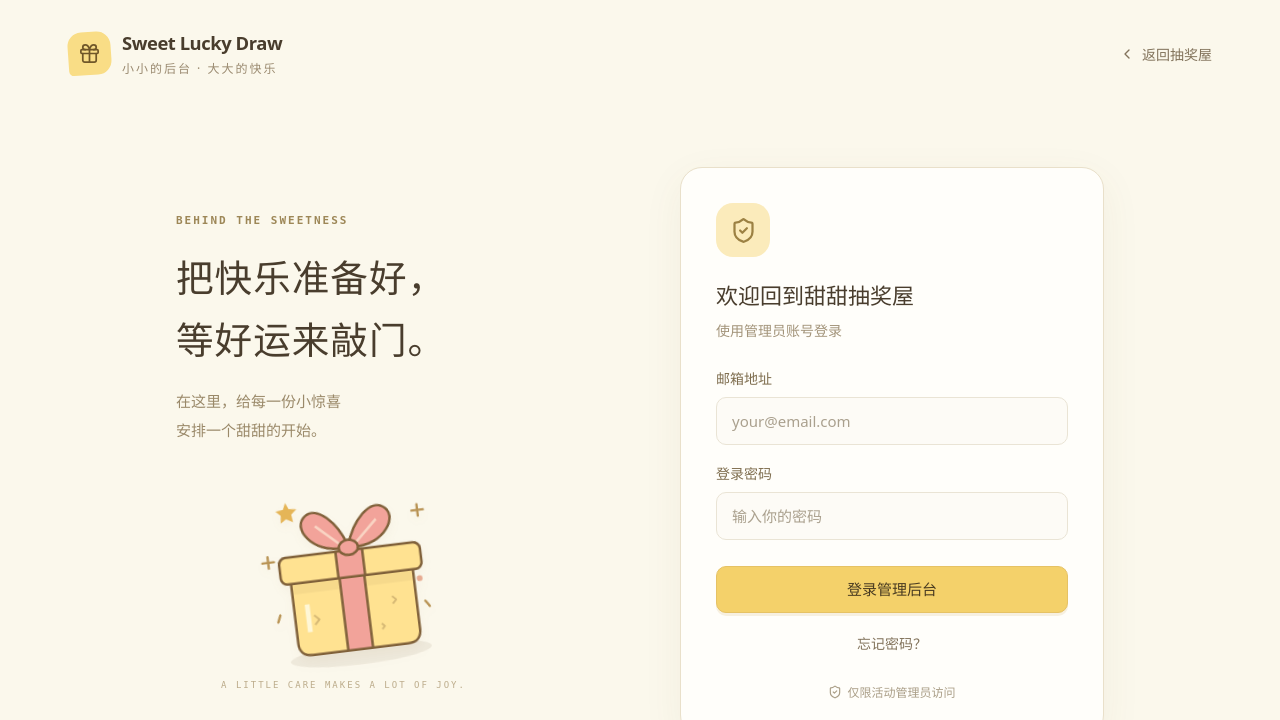
admin session and permissions › clears rendered private data on logout
The image size is (1280, 720).
Step 1. Type "admin@example.test" into the field labelled "邮箱地址" → [892, 421], box [716, 397, 1068, 445]
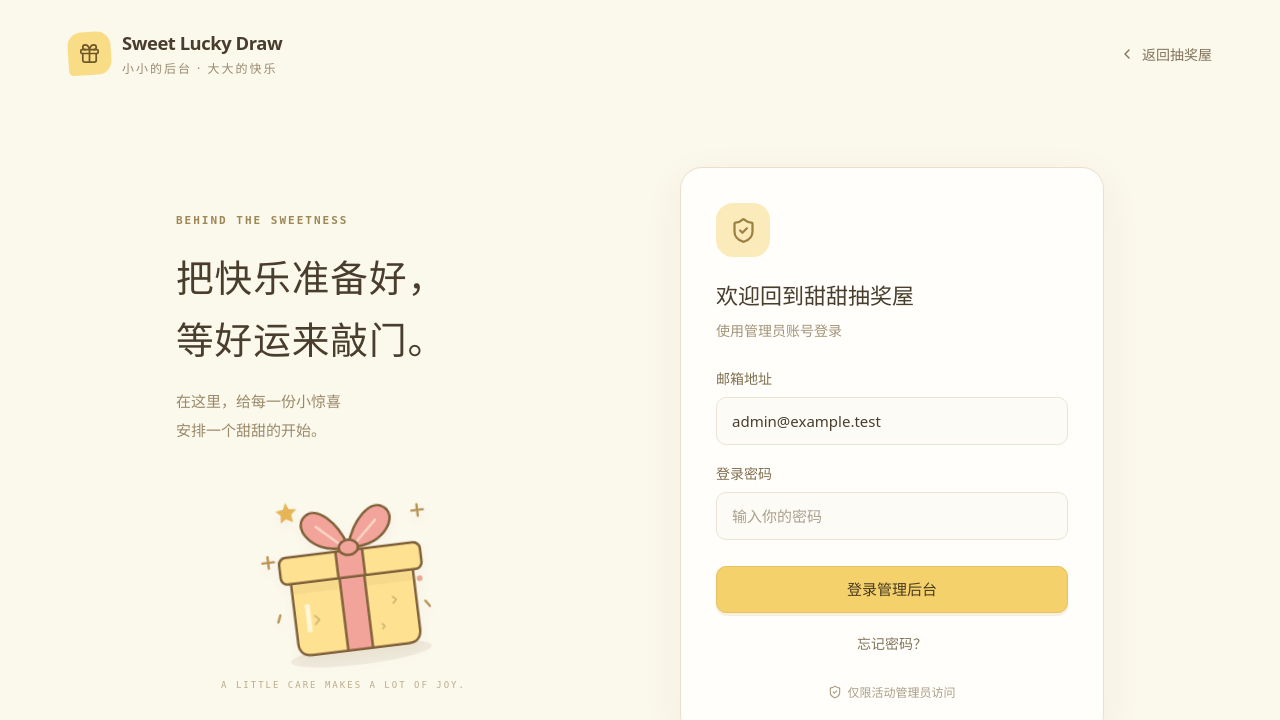
Step 2. Type "only-in-memory" into the password field labelled "登录密码" → [892, 516], box [716, 492, 1068, 540]
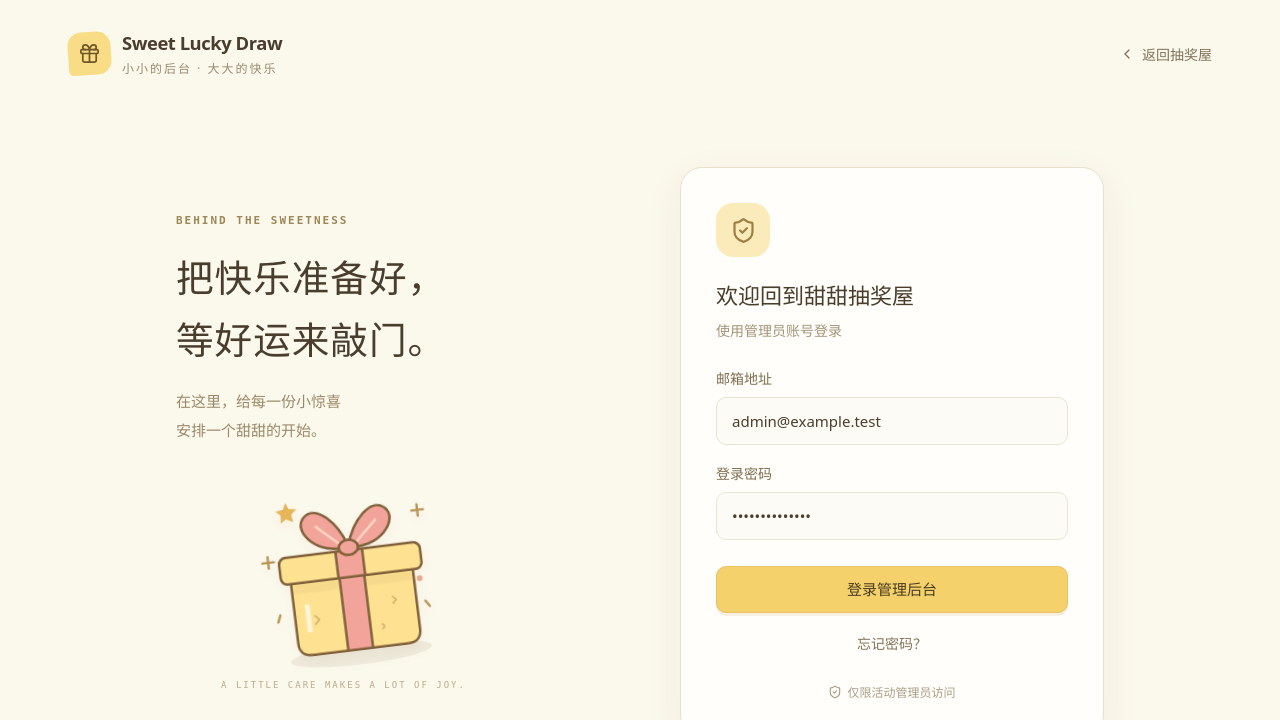
Step 3. Click the button "登录管理后台" → [892, 590], box [716, 566, 1068, 613]
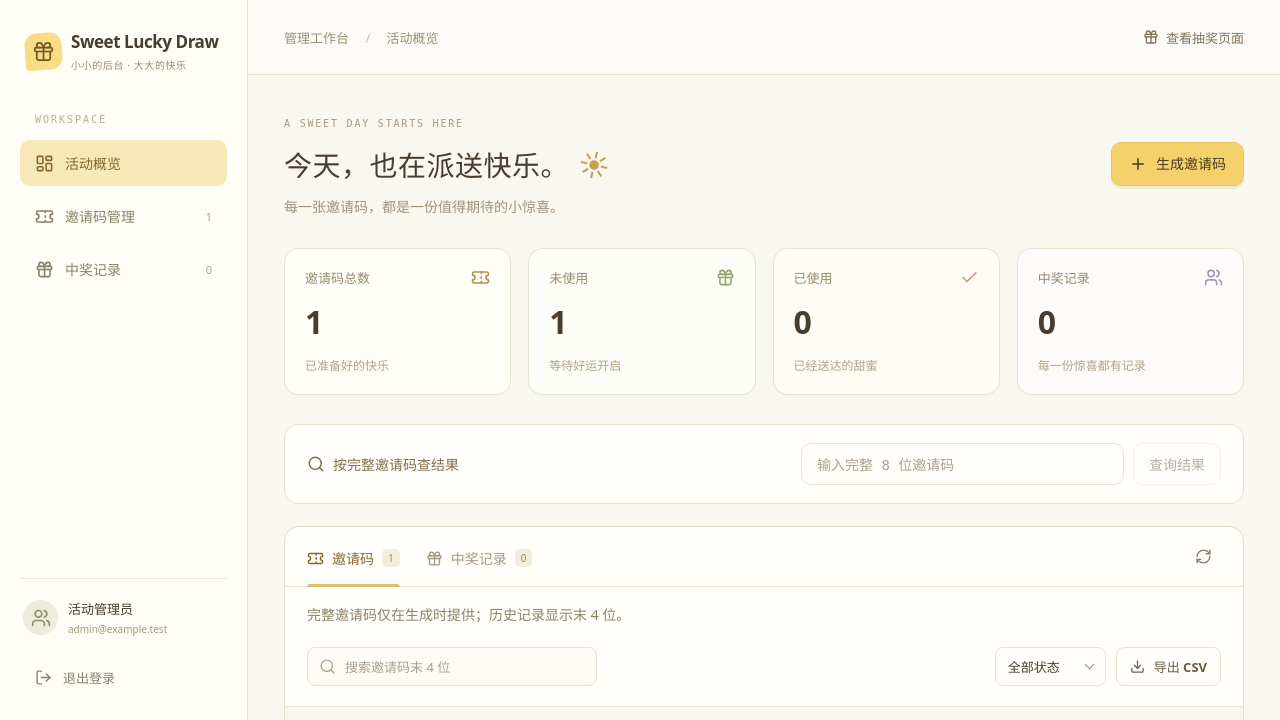
Step 4. Click the button "退出登录" → [124, 678], box [20, 655, 227, 700]
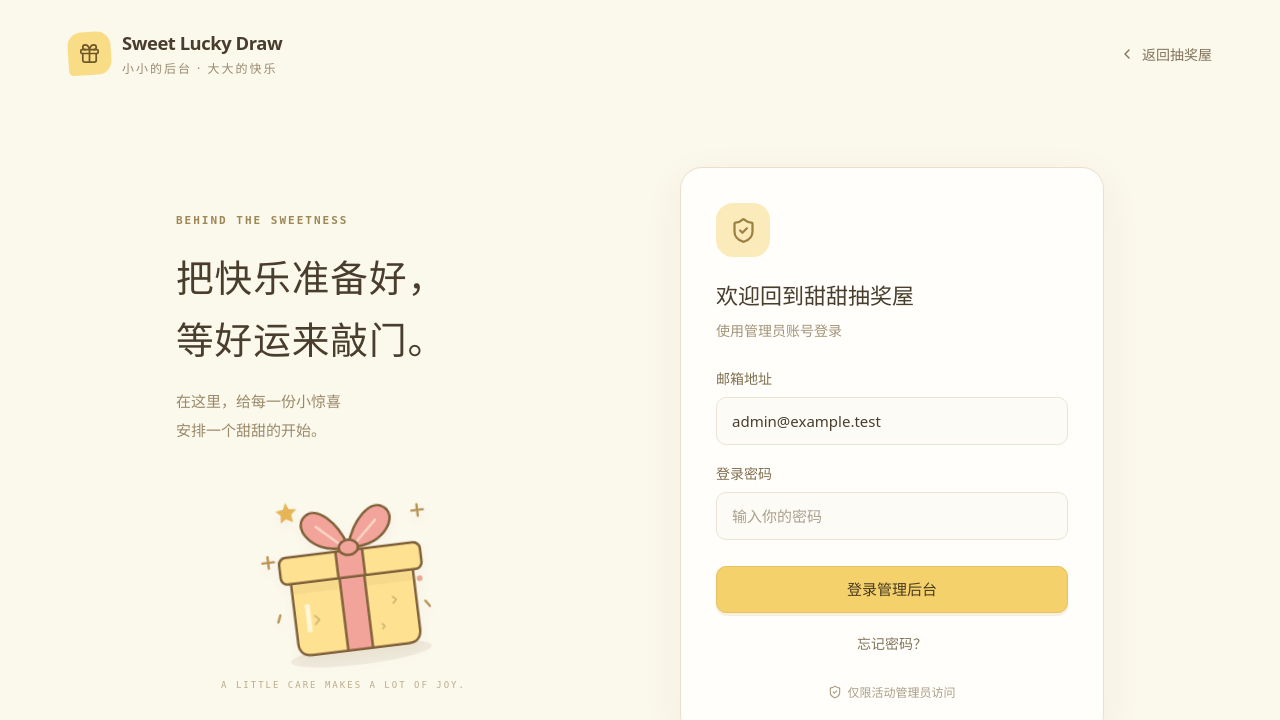
Now the button "登录管理后台" is shown, box [716, 566, 1068, 613]
